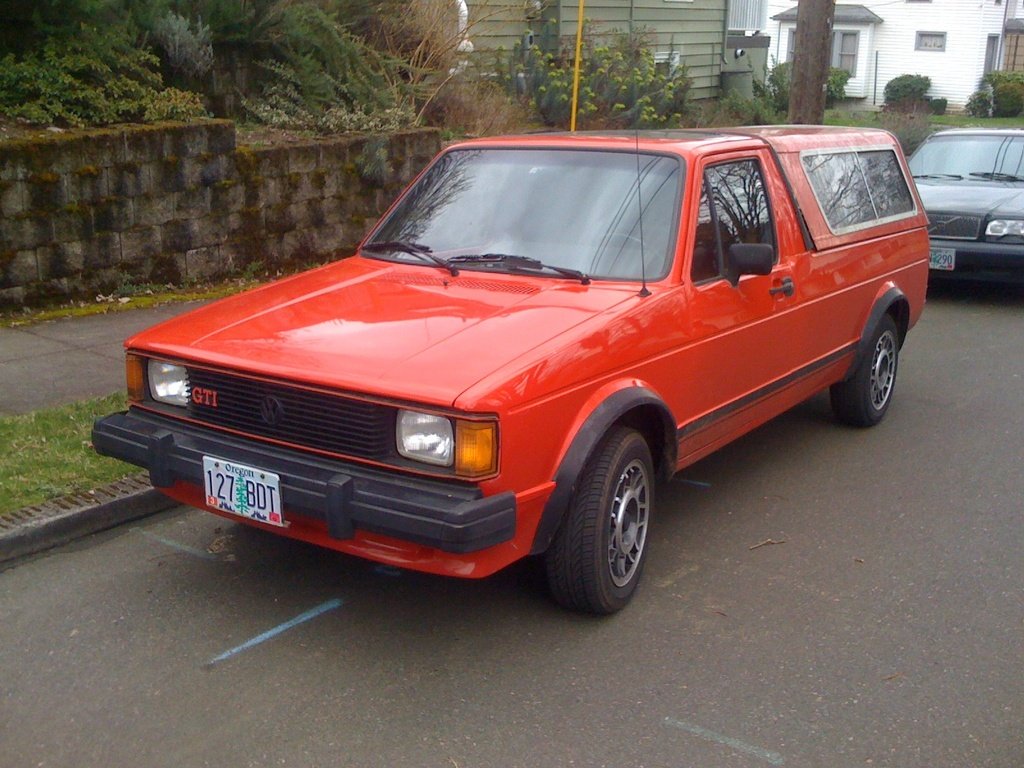Tree: (786, 0, 837, 124)
